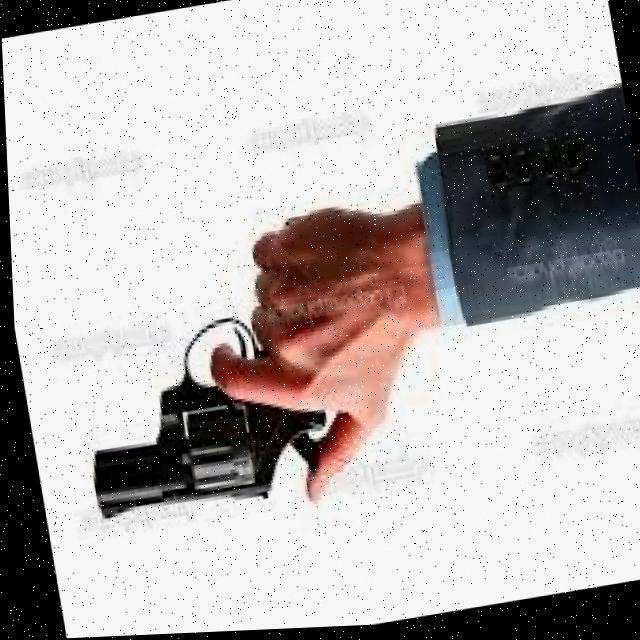pistol: (64, 305, 337, 530)
